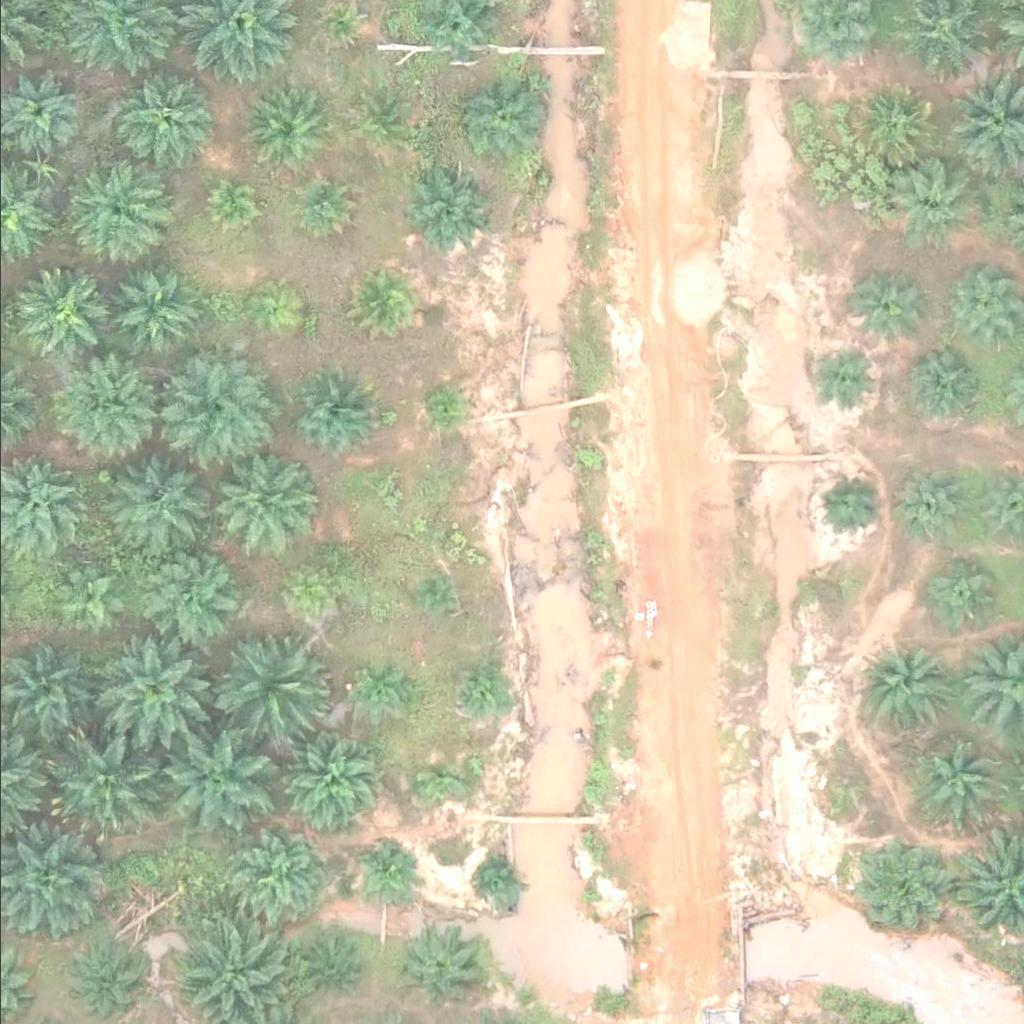Kelapa_Sawit: (157, 718, 270, 831), (217, 627, 330, 740), (85, 632, 198, 745), (161, 348, 275, 460), (40, 729, 153, 841), (206, 455, 307, 555), (49, 353, 150, 453), (842, 836, 943, 936), (278, 734, 378, 834), (137, 549, 237, 649), (100, 456, 200, 556), (12, 260, 112, 360), (63, 157, 163, 257), (115, 68, 215, 168), (290, 368, 378, 456), (109, 266, 197, 354), (885, 457, 973, 545), (847, 76, 935, 164), (240, 830, 328, 917), (396, 924, 484, 1011), (457, 75, 545, 162), (242, 84, 330, 171), (910, 742, 998, 829), (861, 644, 949, 731), (880, 161, 968, 248), (401, 171, 477, 246), (907, 352, 983, 427), (926, 558, 1001, 633), (941, 270, 1016, 345), (841, 268, 916, 343), (72, 942, 147, 1017), (55, 561, 130, 636), (354, 271, 417, 334), (812, 341, 875, 404), (816, 474, 879, 536), (348, 94, 411, 156), (247, 281, 298, 331), (364, 846, 415, 896), (475, 853, 525, 903), (306, 944, 356, 994), (412, 756, 462, 806), (458, 664, 508, 714), (355, 659, 405, 709), (205, 183, 255, 233), (297, 178, 347, 228), (409, 573, 447, 611), (425, 387, 463, 424), (291, 563, 328, 600), (325, 2, 362, 39), (374, 476, 400, 501)
